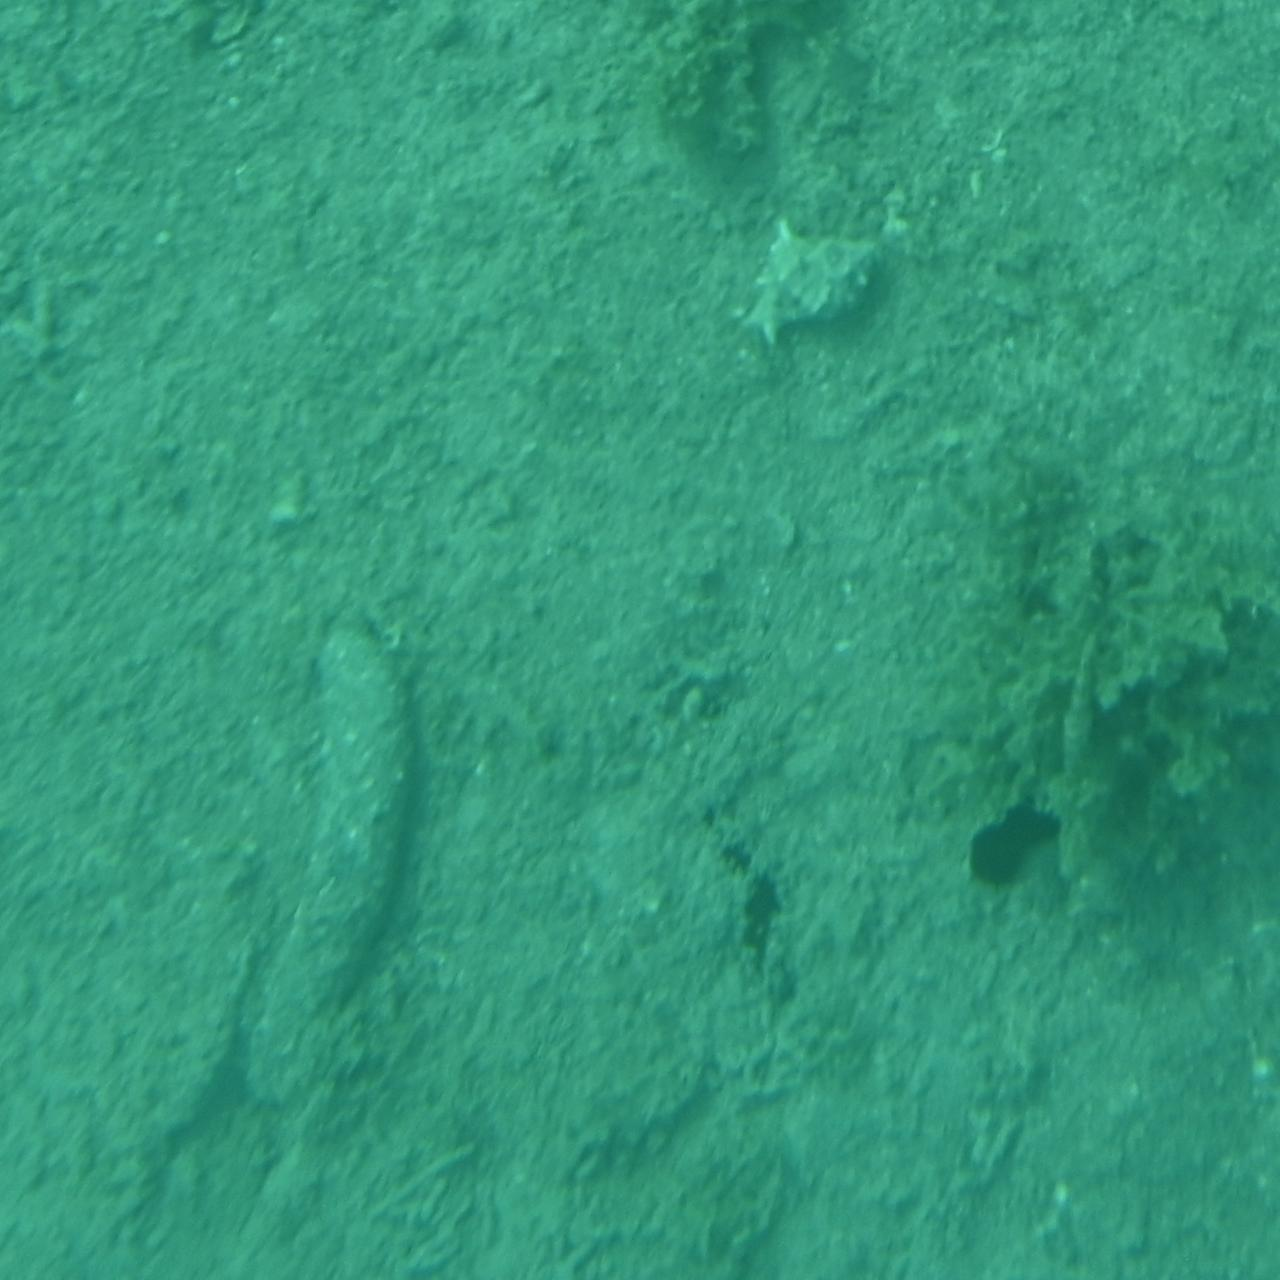Holothuria tubulosa: (232, 617, 422, 1125), (0, 490, 266, 666), (1115, 1067, 1280, 1280)
Phaeophyceae -cfr Cystoseira-: (941, 433, 1280, 958)
